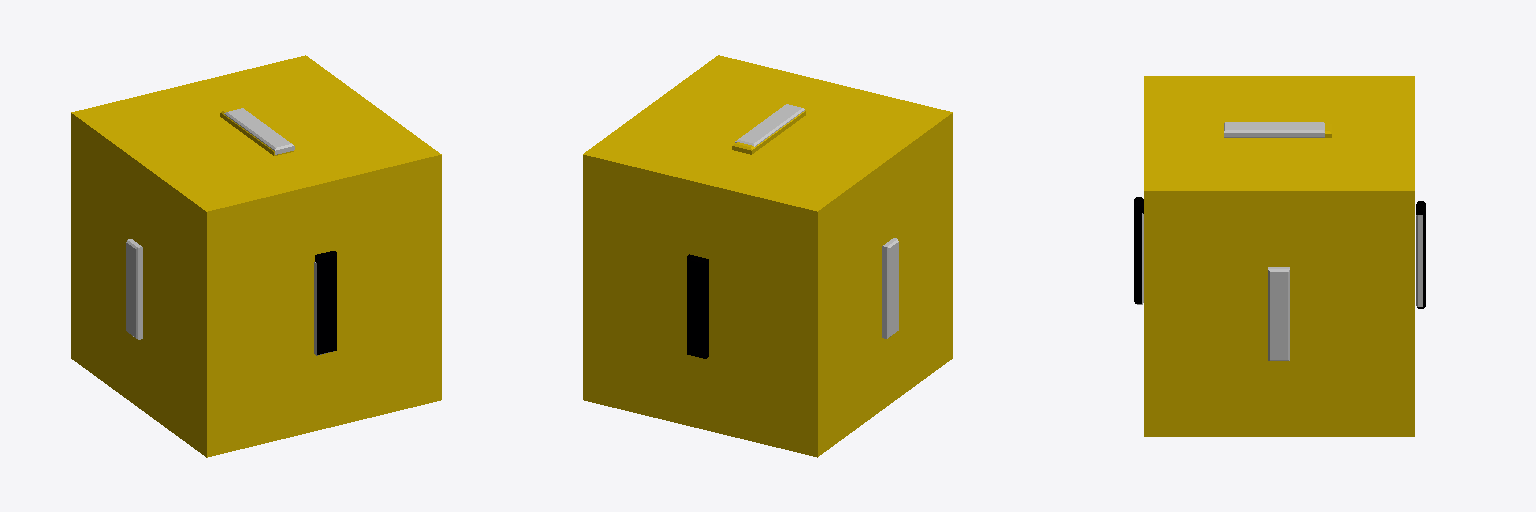
3 views of the same model, side by side, from view 1: azimuth 30°, elevation 25°; view 2: azimuth 150°, elevation 25°; view 3: azimuth 270°, elevation 25° (orthographic).
Parts seen in each view (by area): view 1: Cube, Text.001, Text.008_CUText.008, Text.003_CUText.003; view 2: Cube, Text.002, Text.008_CUText.008, Text.003_CUText.003; view 3: Cube, Text.006_CUText.006, Text.003_CUText.003, Text.001, Text.007_CUText.007.
Part boxes in pixels (x1,y1,x2,y2): Cube: (71,55,441,457); Text.001: (315,251,336,354); Text.008_CUText.008: (126,239,142,339); Text.003_CUText.003: (224,108,294,154); Cube: (583,55,952,457); Text.002: (687,254,708,358); Text.008_CUText.008: (882,238,898,338); Text.003_CUText.003: (735,104,804,146); Cube: (1144,76,1414,436); Text.006_CUText.006: (1268,267,1289,360); Text.003_CUText.003: (1224,122,1324,137); Text.001: (1134,197,1143,303); Text.007_CUText.007: (1416,215,1422,306).
Bounding box in the file's own units: 2.14 × 2.11 × 2.15.